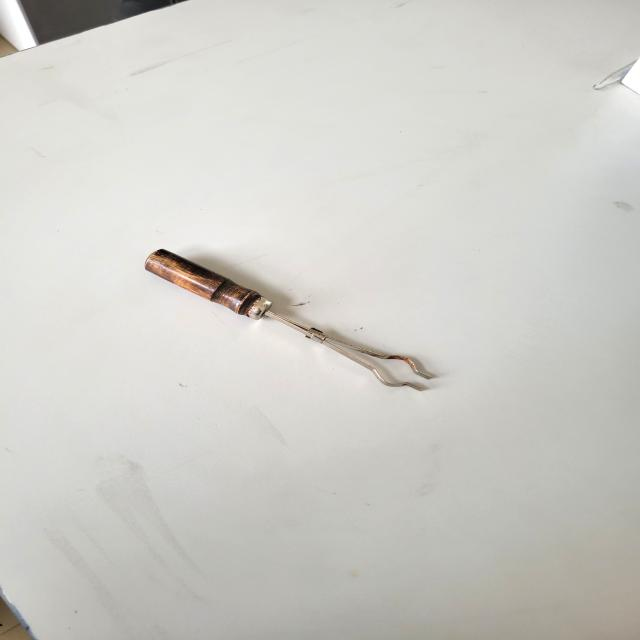TestTube_Holder: (119, 202, 447, 419)
